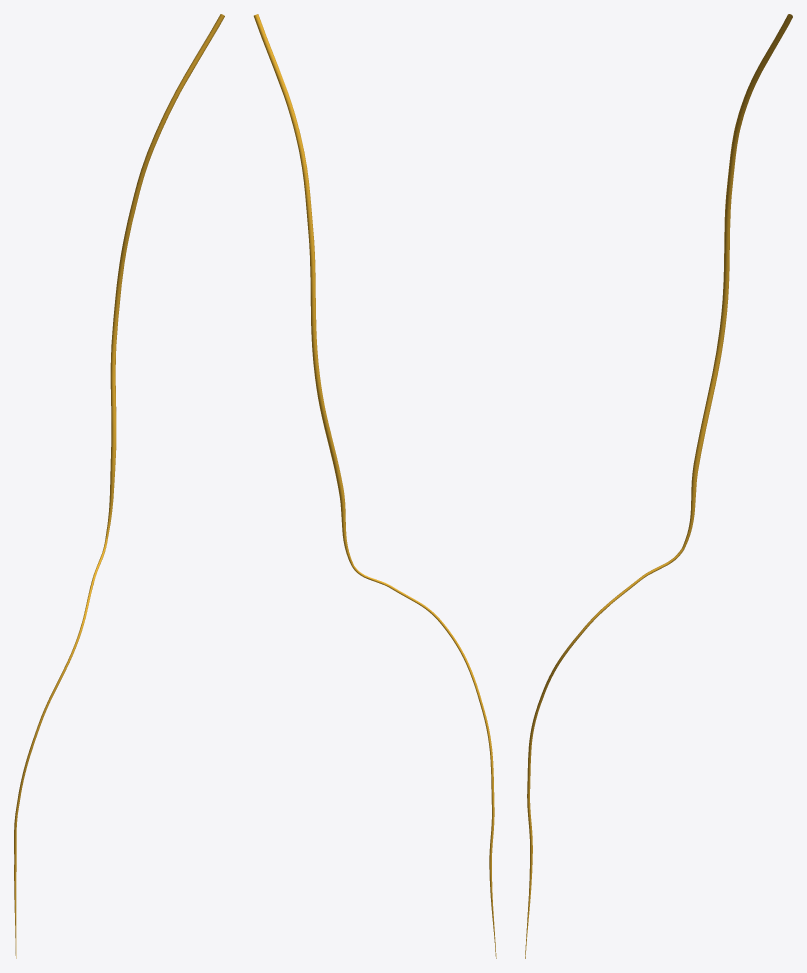
Rendered from nervoso-musculocutaneous-nerve-r.glb.
3 views of the same model, side by side, from view 1: azimuth 30°, elevation 25°; view 2: azimuth 150°, elevation 25°; view 3: azimuth 330°, elevation 25° (orthographic). The views are drawn at different scales.
Parts seen in each view (by area): view 1: Musculocutaneous nerve.r, Lateral antebrachial cutaneous nerve.r; view 2: Musculocutaneous nerve.r, Lateral antebrachial cutaneous nerve.r; view 3: Musculocutaneous nerve.r, Lateral antebrachial cutaneous nerve.r.
Part boxes in pixels (bbox=[...]): Musculocutaneous nerve.r: bbox=[105, 14, 224, 538]; Lateral antebrachial cutaneous nerve.r: bbox=[14, 538, 107, 958]; Musculocutaneous nerve.r: bbox=[253, 14, 353, 566]; Lateral antebrachial cutaneous nerve.r: bbox=[352, 566, 496, 958]; Musculocutaneous nerve.r: bbox=[682, 14, 792, 548]; Lateral antebrachial cutaneous nerve.r: bbox=[525, 548, 684, 958].
Bounding box in the file's own units: 0.1009 × 0.3808 × 0.0374.
